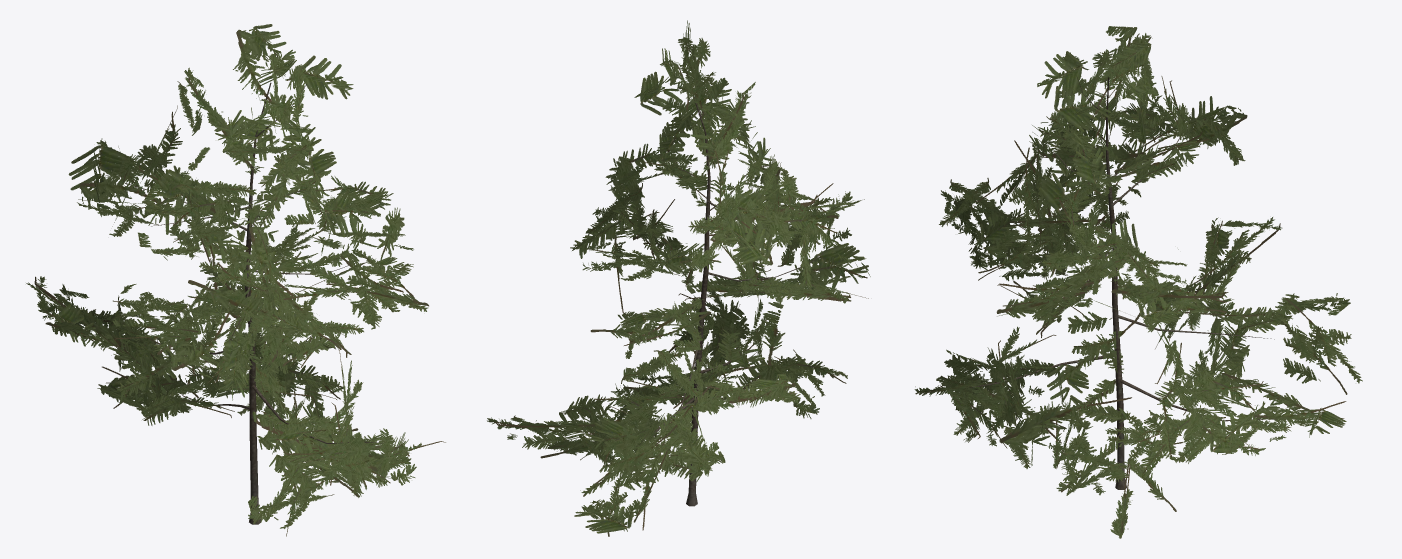
The picture shows the model from 3 angles, left to right: view 1: azimuth 30°, elevation 25°; view 2: azimuth 150°, elevation 25°; view 3: azimuth 270°, elevation 25°; orthographic projection. The views are drawn at different scales.
Parts seen in each view (by area): view 1: fir_sapling__b_lod1; view 2: fir_sapling__b_lod1; view 3: fir_sapling__b_lod1.
Part boxes in pixels (bbox=[...]): fir_sapling__b_lod1: bbox=[26, 24, 445, 536]; fir_sapling__b_lod1: bbox=[487, 20, 870, 536]; fir_sapling__b_lod1: bbox=[914, 26, 1362, 538].
Size of the model in its own units: 0.6791 by 0.961 by 0.8959.
Materials: 2 (2 with a texture image).
